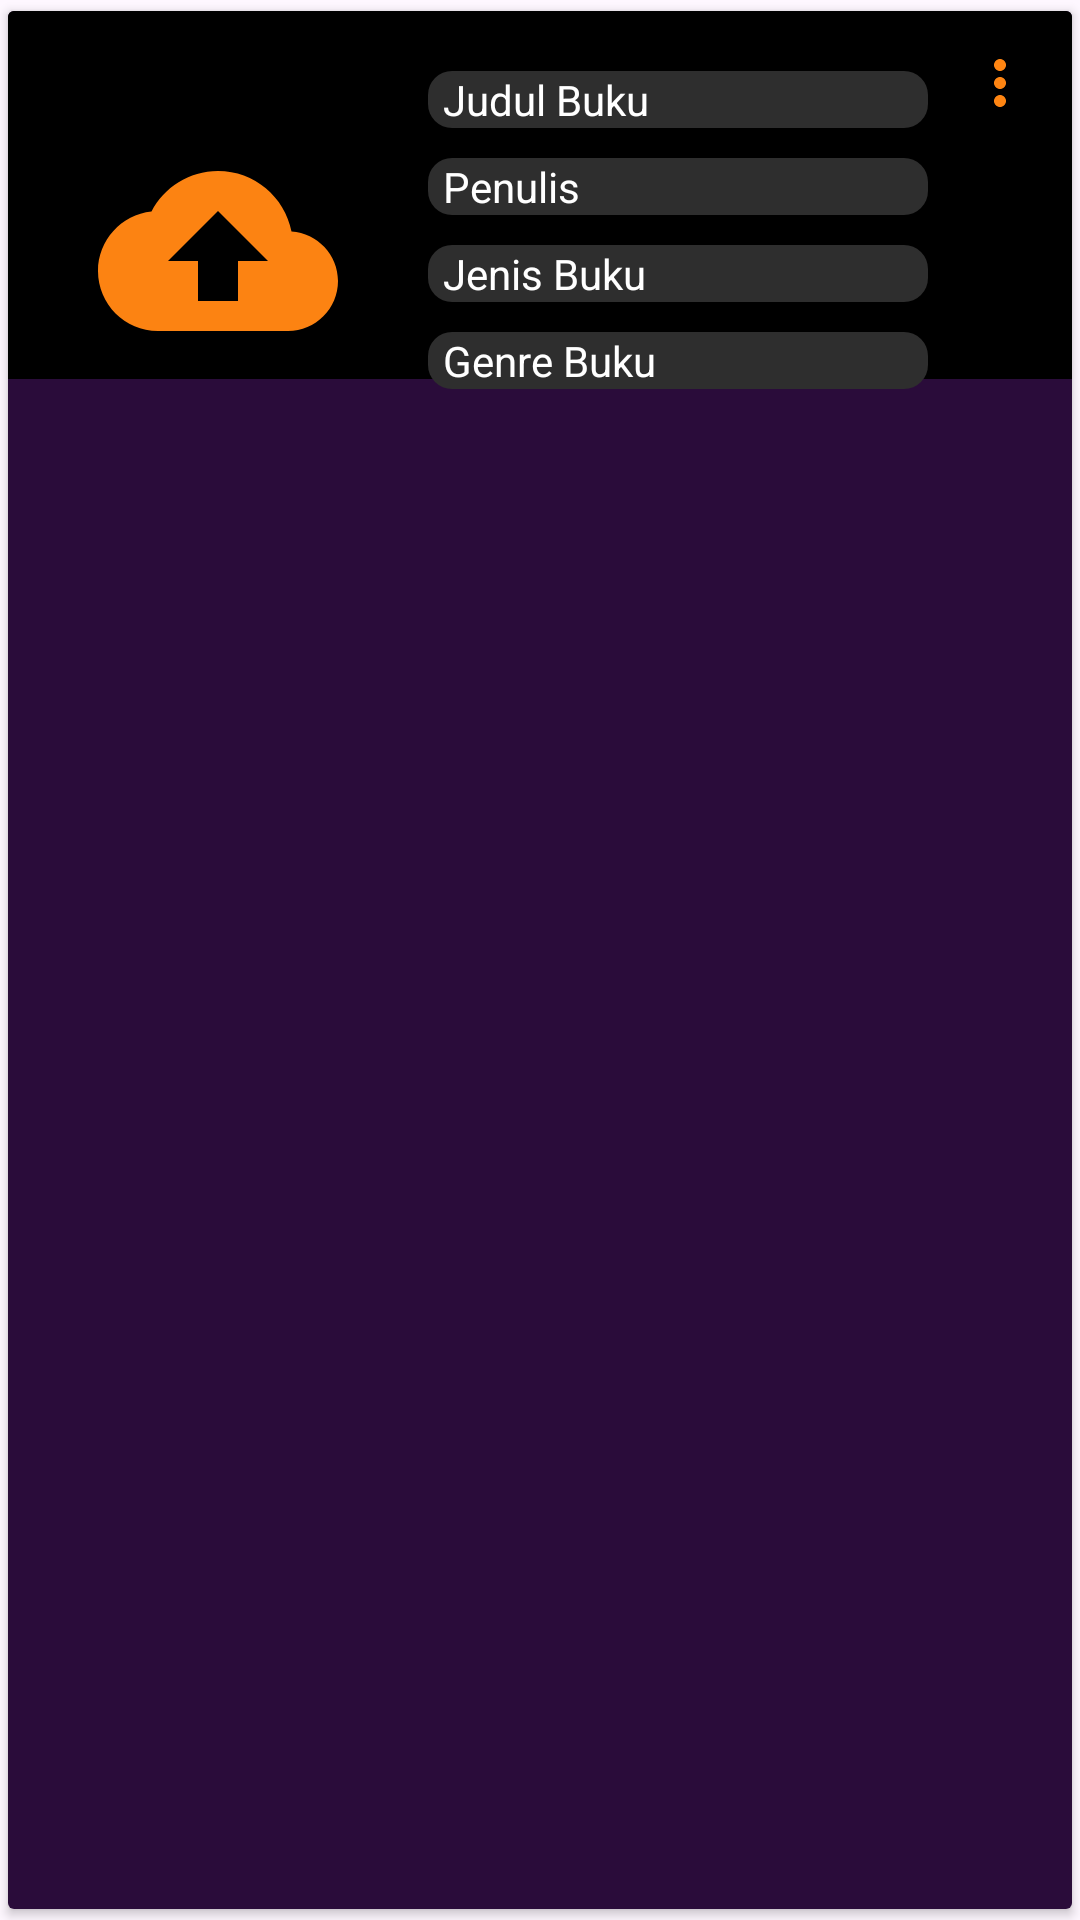

Point at icon controls on the screen. Image size 1080px x 1920px, points as point (x, y).
more: point (1000, 83)
upload: point (218, 251)
